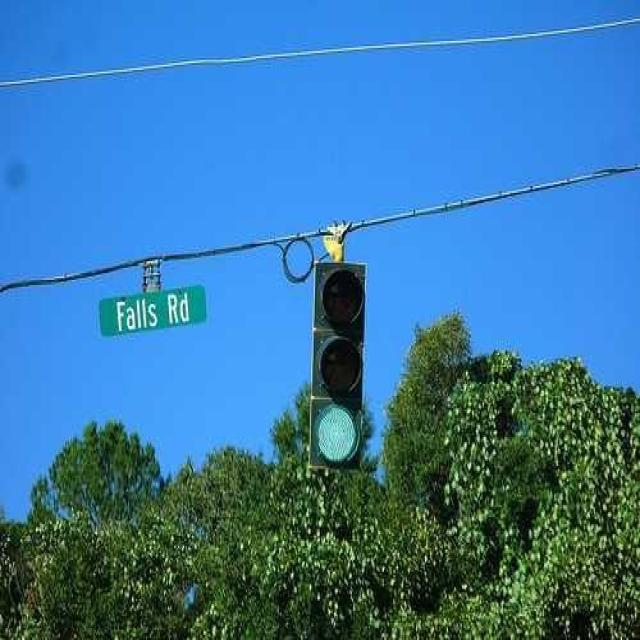Traffic Light -Green-: (307, 253, 371, 476)
